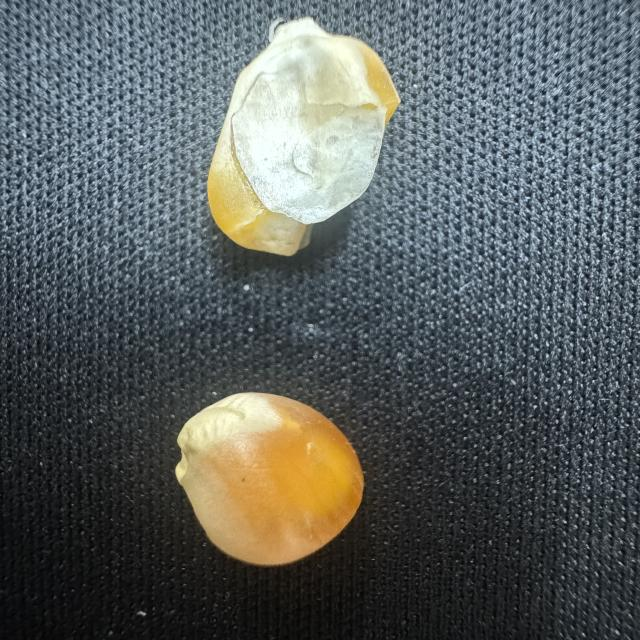Bad-Seed: (192, 12, 407, 264), (163, 388, 379, 574)
